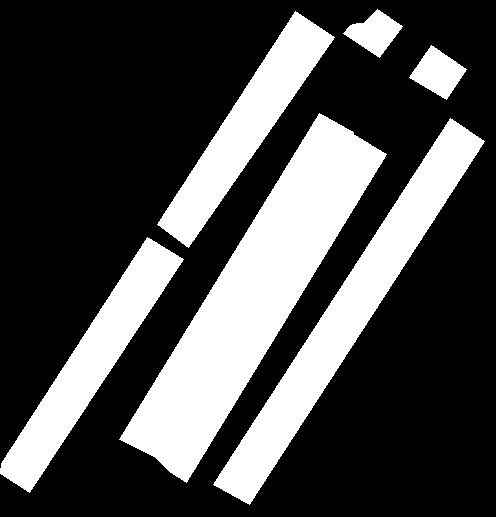parkingspot: (213, 118, 484, 504), (153, 134, 386, 482), (119, 113, 353, 457), (0, 237, 183, 492), (157, 11, 334, 247), (409, 45, 466, 99), (343, 9, 402, 57)
